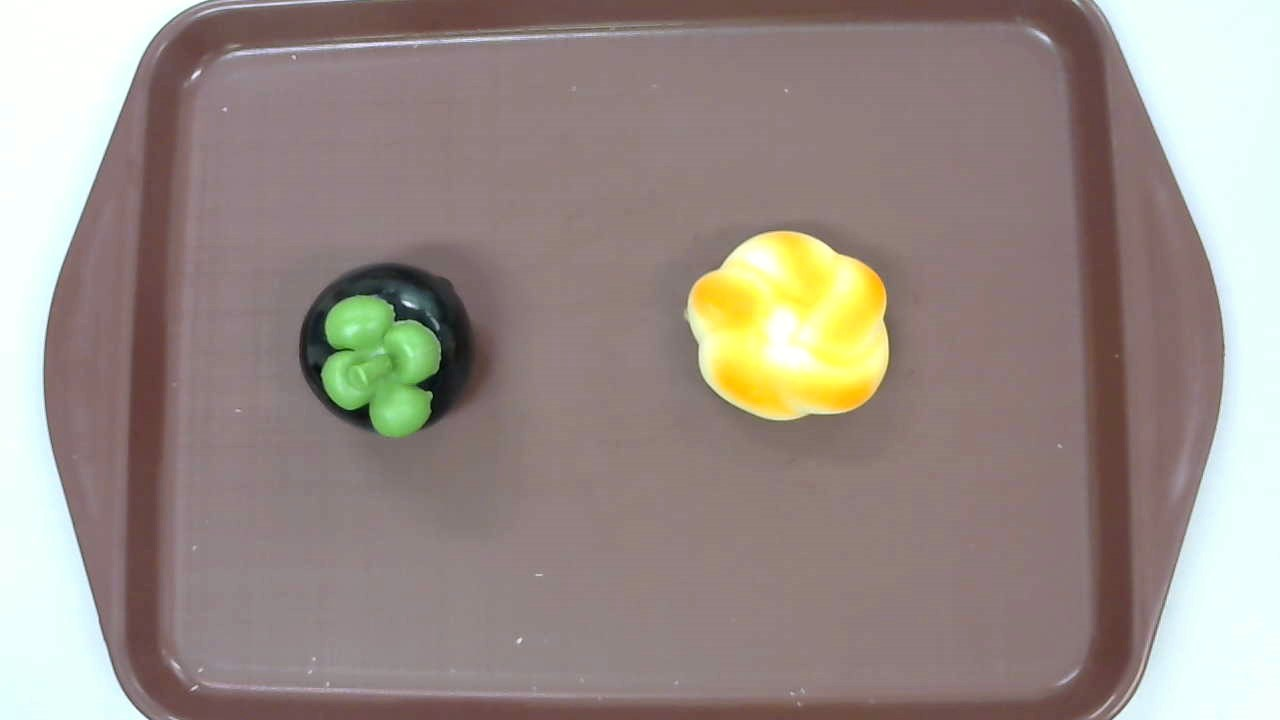mangosteen: (297, 263, 475, 434)
twist bread: (685, 230, 889, 423)
